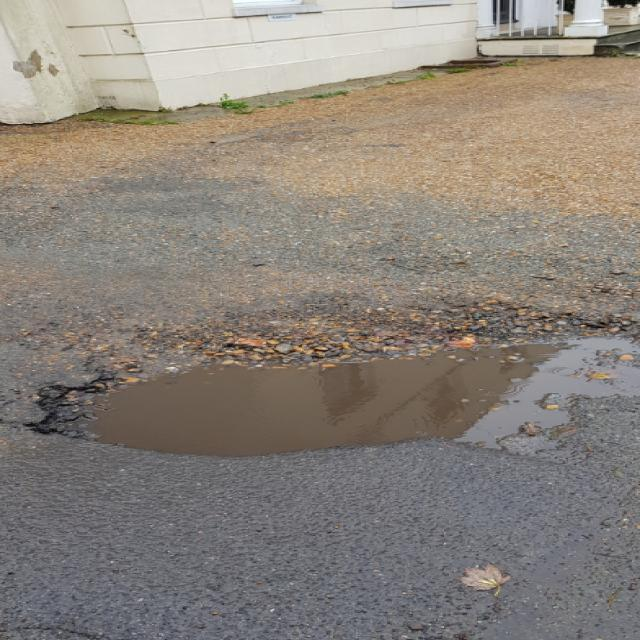Pothole: (11, 311, 640, 459)
